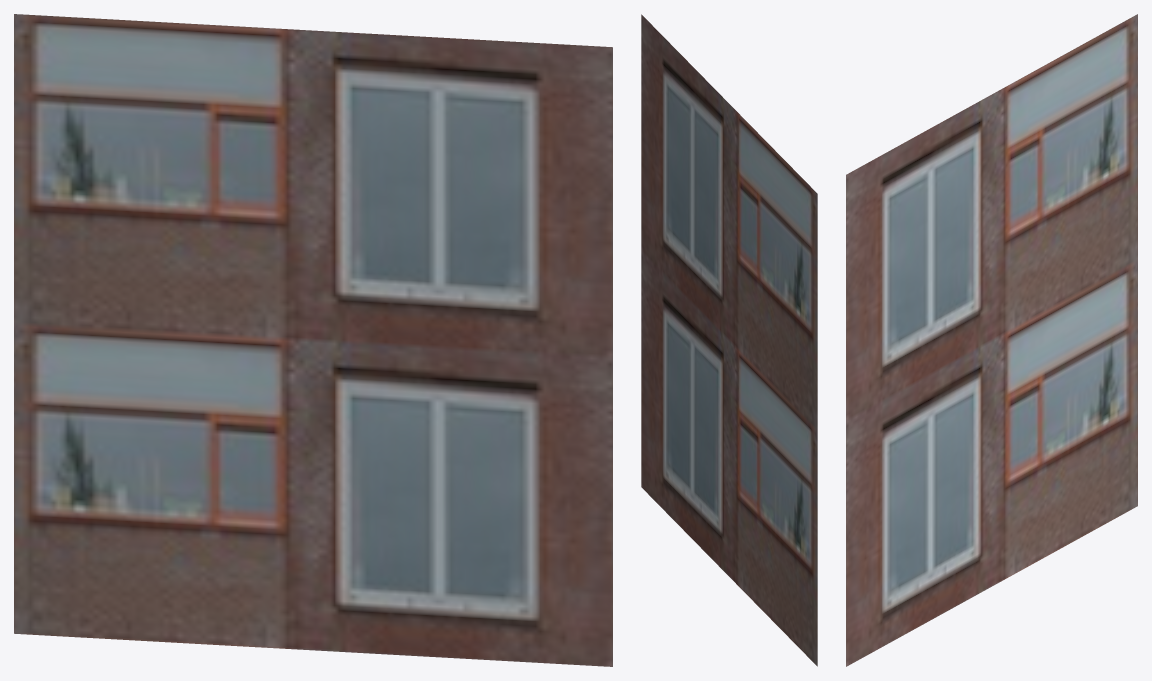
File: ResTex__3841.fbx
3 views of the same model, side by side, from view 1: azimuth 30°, elevation 25°; view 2: azimuth 150°, elevation 25°; view 3: azimuth 270°, elevation 25° (orthographic). The views are drawn at different scales.
Visible parts, largest first — view 1: CityEngineMaterial_19_m; view 2: CityEngineMaterial_19_m; view 3: CityEngineMaterial_19_m.
Part boxes in pixels (<box>): CityEngineMaterial_19_m: <box>14,14,612,666</box>; CityEngineMaterial_19_m: <box>641,14,817,666</box>; CityEngineMaterial_19_m: <box>846,14,1137,666</box>.
Bounding box in the file's own units: 4.2 × 6 × 3.22.
1 material, 1 textured.
